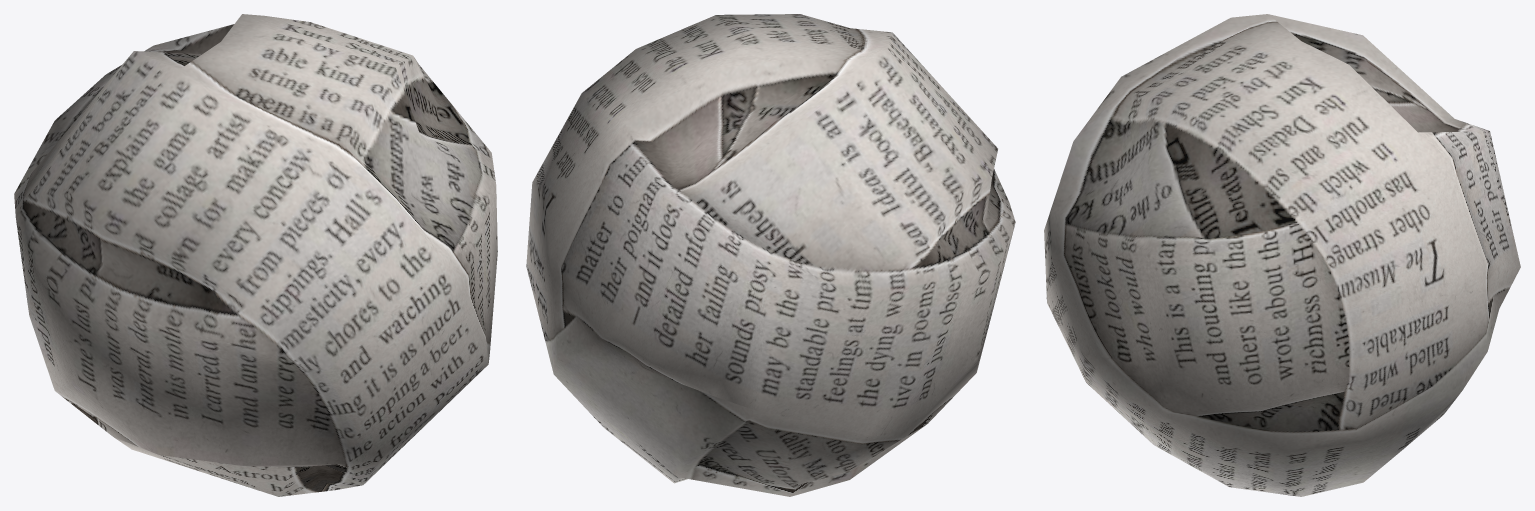
The model's file is hl_ball_paper_medium.fbx.
3 views of the same model, side by side, from view 1: azimuth 30°, elevation 25°; view 2: azimuth 150°, elevation 25°; view 3: azimuth 270°, elevation 25° (orthographic). The views are drawn at different scales.
Visible parts, largest first — view 1: hl_ball_paper_medium; view 2: hl_ball_paper_medium; view 3: hl_ball_paper_medium.
Boxes of the visible parts, box(x1,y1,x2,y2) form: hl_ball_paper_medium: box(14, 14, 497, 496); hl_ball_paper_medium: box(526, 14, 1015, 496); hl_ball_paper_medium: box(1044, 14, 1520, 496).
Size of the model in its own units: 9.55 by 9.54 by 9.94.
